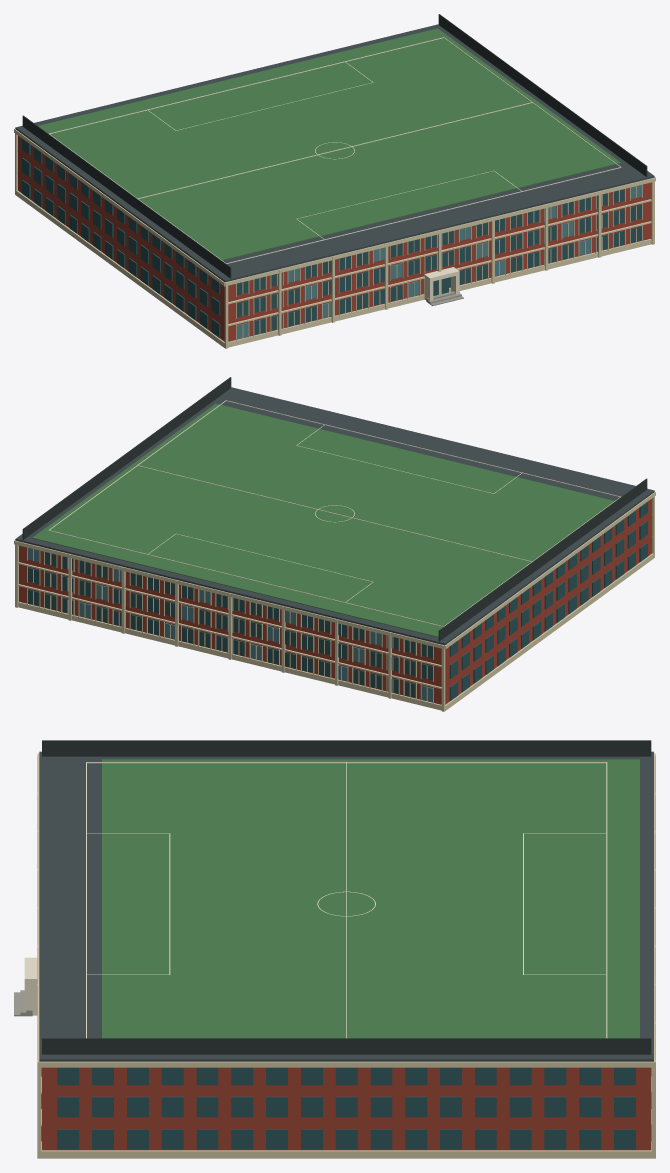
3 renders of one model, top to bottom at view 1: azimuth 30°, elevation 25°; view 2: azimuth 150°, elevation 25°; view 3: azimuth 270°, elevation 25°, orthographic. The views are drawn at different scales.
Visible parts, largest first — view 1: RoofSportsTurf, RoofTrainingHall_Structure, RoofTrainingHall_Roof, RoofTrainingHall_WindowGlass, RoofTrainingHall_SideWindows, SafetyFence, RoofTrainingHall_WindowFrames, RoofTrainingHall_Plinth, RoofTrainingHall_Cornice, RoofCourt, RoofTrainingHall_Pilasters, RoofTrainingHall_FloorBands; view 2: RoofSportsTurf, RoofTrainingHall_Structure, RoofTrainingHall_Roof, RoofTrainingHall_WindowGlass, RoofTrainingHall_SideWindows, RoofTrainingHall_WindowFrames, SafetyFence, RoofTrainingHall_Plinth, RoofTrainingHall_Cornice, RoofCourt, RoofTrainingHall_Pilasters, RoofTrainingHall_FloorBands; view 3: RoofSportsTurf, RoofTrainingHall_Structure, RoofTrainingHall_Roof, RoofTrainingHall_SideWindows, SafetyFence, RoofTrainingHall_Cornice, RoofTrainingHall_Plinth, RoofCourt, RoofTrainingHall_Pilasters.
Boxes of the visible parts, <box> form: RoofSportsTurf: <box>38,28,620,260</box>; RoofTrainingHall_Structure: <box>18,136,650,341</box>; RoofTrainingHall_Roof: <box>15,24,654,282</box>; RoofTrainingHall_WindowGlass: <box>237,185,641,339</box>; RoofTrainingHall_SideWindows: <box>22,138,220,337</box>; SafetyFence: <box>22,14,647,278</box>; RoofTrainingHall_WindowFrames: <box>236,184,642,340</box>; RoofTrainingHall_Plinth: <box>15,190,651,347</box>; RoofTrainingHall_Cornice: <box>14,129,655,286</box>; RoofCourt: <box>49,37,621,263</box>; RoofTrainingHall_Pilasters: <box>15,133,654,348</box>; RoofTrainingHall_FloorBands: <box>17,151,651,326</box>; RoofSportsTurf: <box>32,403,614,637</box>; RoofTrainingHall_Structure: <box>19,499,651,704</box>; RoofTrainingHall_Roof: <box>15,387,654,645</box>; RoofTrainingHall_WindowGlass: <box>28,548,432,702</box>; RoofTrainingHall_SideWindows: <box>449,501,647,700</box>; RoofTrainingHall_WindowFrames: <box>27,547,433,703</box>; SafetyFence: <box>22,377,647,641</box>; RoofTrainingHall_Plinth: <box>18,553,654,710</box>; RoofTrainingHall_Cornice: <box>14,492,655,649</box>; RoofCourt: <box>48,400,620,626</box>; RoofTrainingHall_Pilasters: <box>15,496,654,711</box>; RoofTrainingHall_FloorBands: <box>18,514,652,689</box>; RoofSportsTurf: <box>102,759,639,1038</box>; RoofTrainingHall_Structure: <box>42,1067,651,1150</box>; RoofTrainingHall_Roof: <box>39,751,653,1061</box>; RoofTrainingHall_SideWindows: <box>57,1067,635,1149</box>; SafetyFence: <box>42,740,651,1054</box>; RoofTrainingHall_Cornice: <box>37,753,655,1067</box>; RoofTrainingHall_Plinth: <box>39,1126,653,1158</box>; RoofCourt: <box>86,762,607,1038</box>; RoofTrainingHall_Pilasters: <box>37,755,655,1158</box>.
Size of the model in its own units: 82.16 by 14.3 by 72.15.
